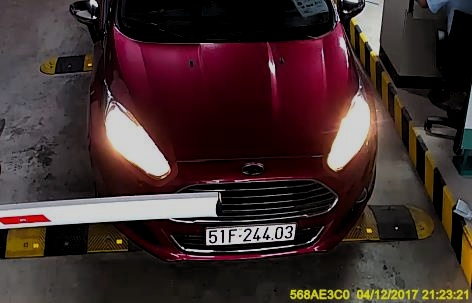plate: (201, 221, 298, 246)
